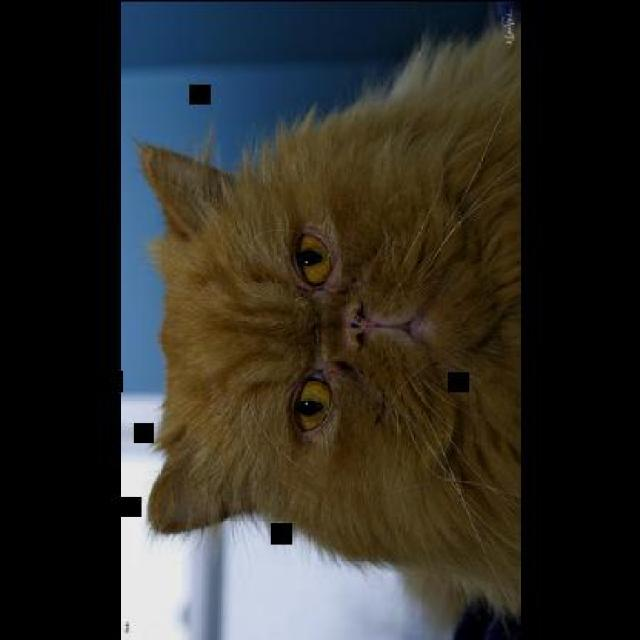unauthorized: (134, 16, 520, 638)
